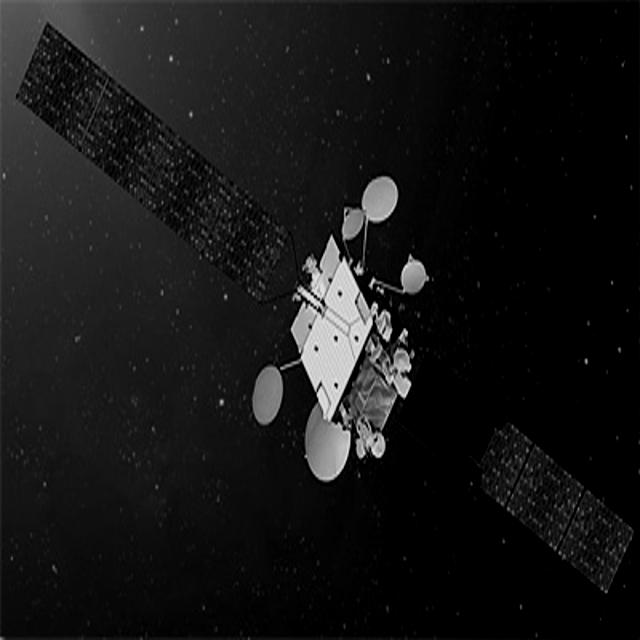satellite: (0, 23, 635, 602)
